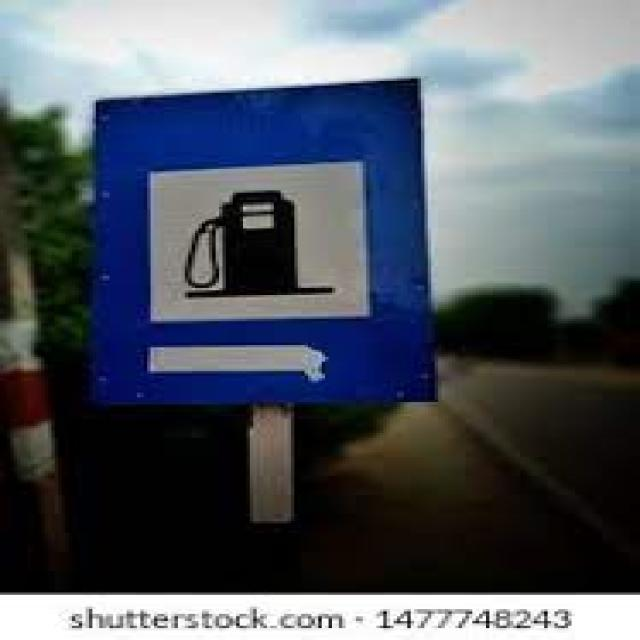petrol pump ahead: (94, 99, 427, 399)
